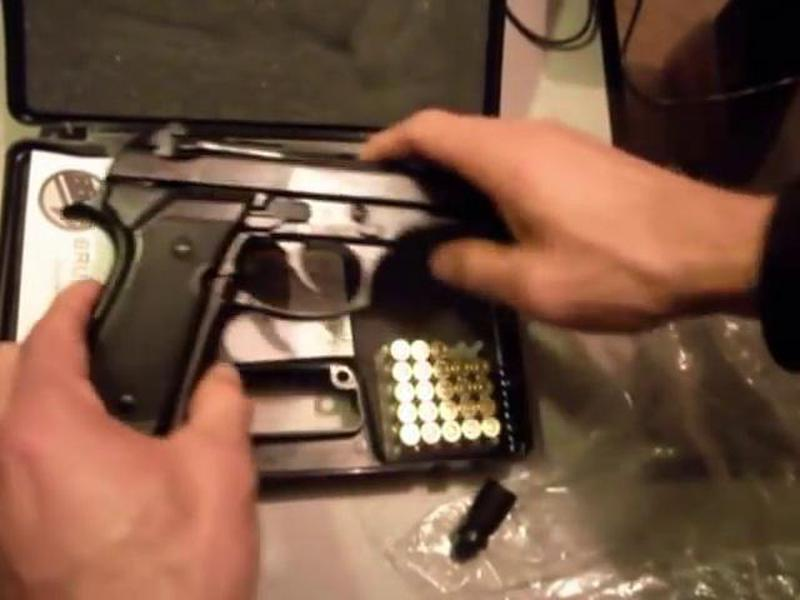Pistola: (50, 124, 579, 456)
